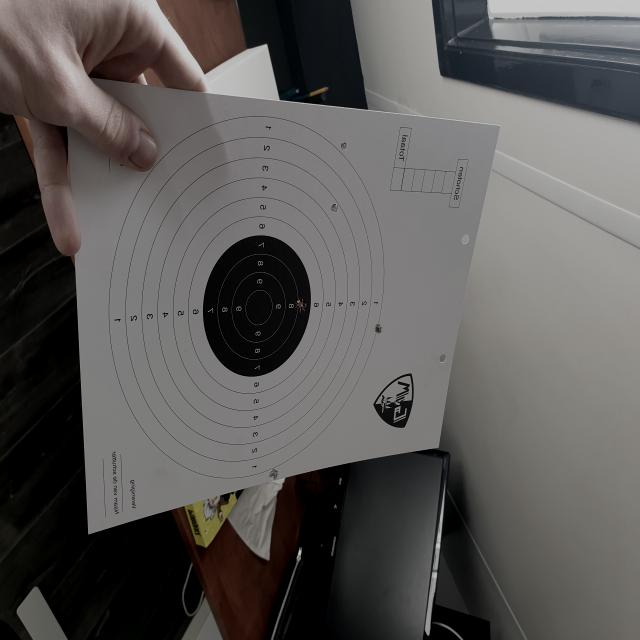0: (268, 468, 278, 481), (375, 323, 382, 334), (341, 142, 348, 152)
3: (331, 203, 339, 213)
8: (296, 297, 306, 313)
Target: (108, 115, 386, 478)
black_contour: (204, 236, 312, 376)
